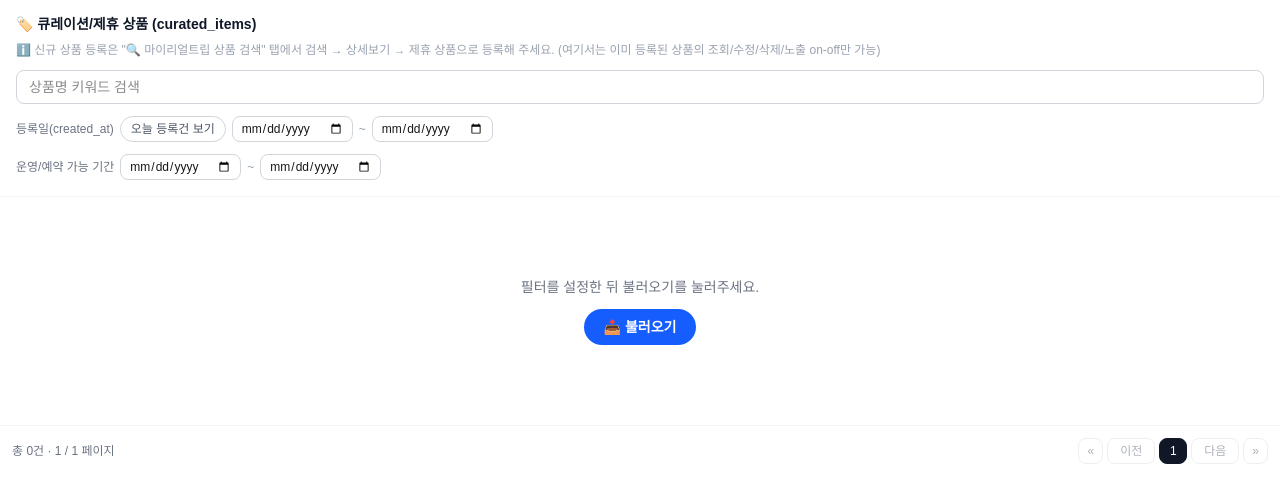
CuratedItemsPanel › 시작일만 설정된 상품은 "2026-09-01 ~"처럼 한쪽만 보여준다
Click the button "📥 불러오기" at coordinates (640, 327), box left=584, top=309, right=696, bottom=345
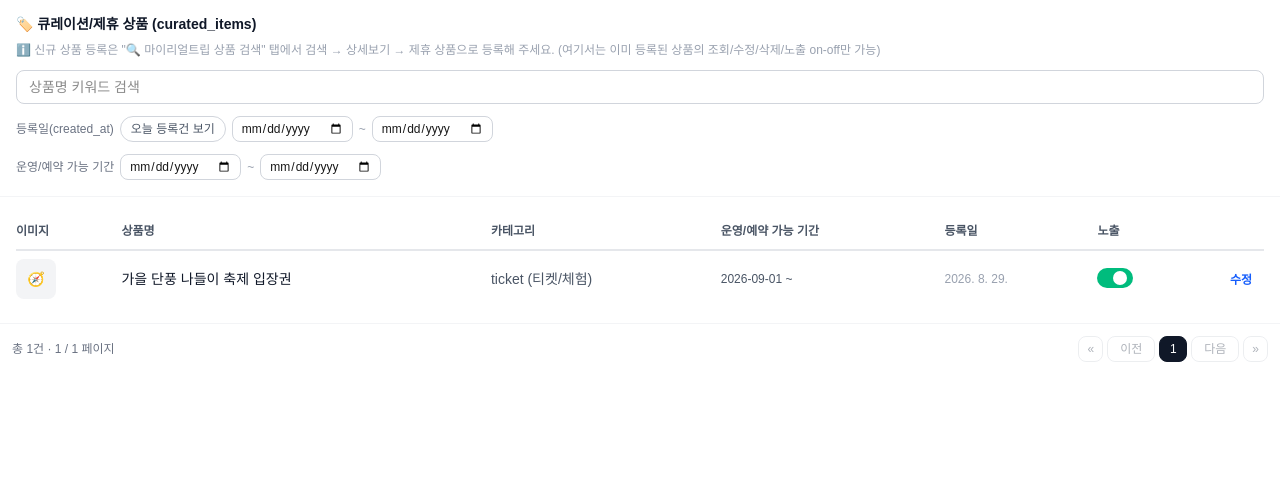
expect the text "2026-09-01 ~" is shown: met, box left=721, top=250, right=944, bottom=307
